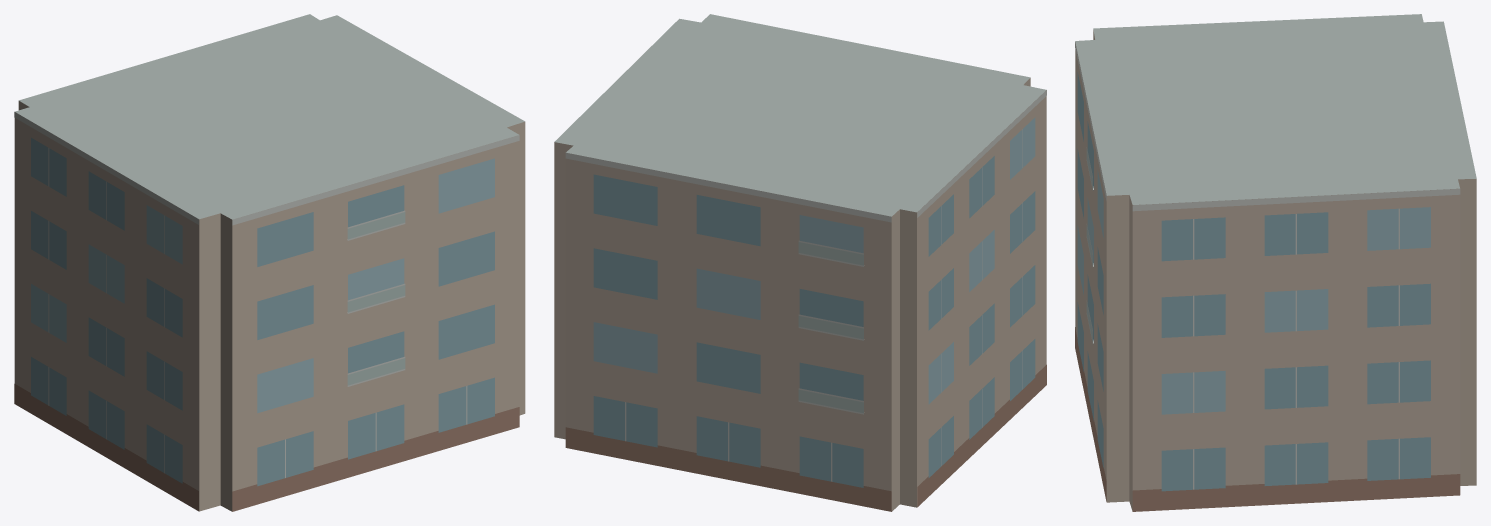
Rendered from survey-upis-32778041.glb.
3 views of the same model, side by side, from view 1: azimuth 30°, elevation 25°; view 2: azimuth 150°, elevation 25°; view 3: azimuth 270°, elevation 25° (orthographic). The views are drawn at different scales.
Parts seen in each view (by area): view 1: survey-upis-32778041.tmp; view 2: survey-upis-32778041.tmp; view 3: survey-upis-32778041.tmp.
Part boxes in pixels (bbox=[...]): survey-upis-32778041.tmp: bbox=[14, 14, 525, 511]; survey-upis-32778041.tmp: bbox=[554, 14, 1046, 511]; survey-upis-32778041.tmp: bbox=[1075, 14, 1476, 511].
Size of the model in its own units: 16.31 by 12.2 by 14.49.
